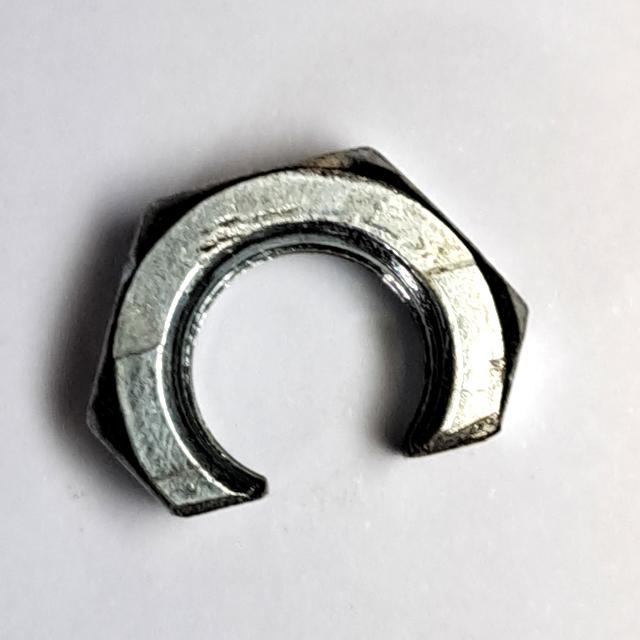Fracture: (72, 132, 539, 537)
